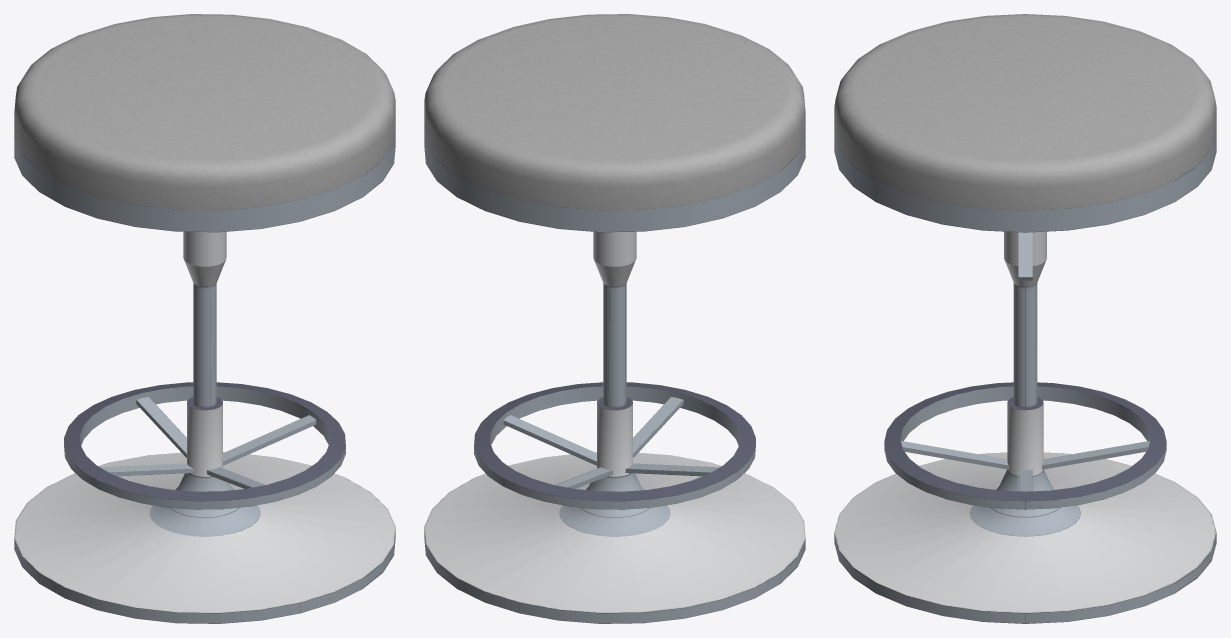
The model's file is Chair_01.FBX.
The picture shows the model from 3 angles, left to right: view 1: azimuth 30°, elevation 25°; view 2: azimuth 150°, elevation 25°; view 3: azimuth 270°, elevation 25°; orthographic projection.
Visible parts, largest first — view 1: Chair_01, Tissus; view 2: Chair_01, Tissus; view 3: Chair_01, Tissus.
Part boxes in pixels (bbox=[...]): Chair_01: bbox=[14, 126, 395, 623]; Tissus: bbox=[14, 14, 395, 210]; Chair_01: bbox=[424, 126, 805, 623]; Tissus: bbox=[424, 14, 805, 210]; Chair_01: bbox=[834, 130, 1216, 623]; Tissus: bbox=[834, 14, 1216, 210].
Size of the model in its own units: 0.6334 by 0.8307 by 0.6334.
Materials: 1 (1 with a texture image).
